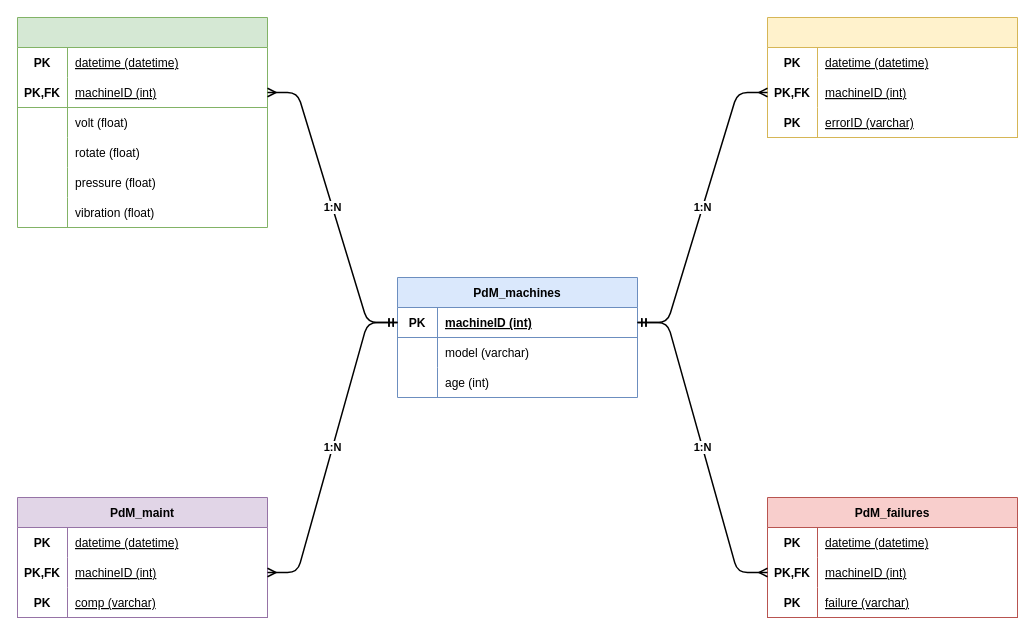
Image size: 1035x635. Some labels were removed from this diagram. Here are the shapes that lost their labels. From the top down, the box of each, then its label:
(766, 16, 1018, 138): PdM_errors
(16, 16, 268, 228): PdM_telemetry
